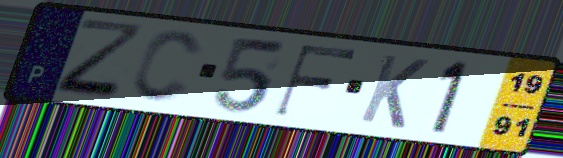1: (428, 59, 471, 136)
5: (209, 35, 289, 116)
C: (127, 28, 206, 107)
F: (270, 42, 361, 120)
K: (355, 51, 433, 132)
Z: (51, 16, 150, 104)
